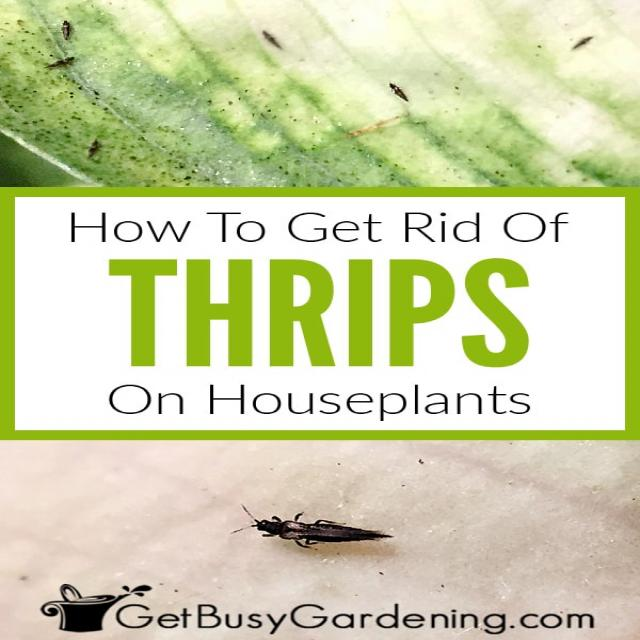Thrip-Adult-: (222, 497, 410, 558), (383, 78, 414, 106), (567, 30, 604, 53), (80, 132, 108, 162), (258, 26, 290, 52), (44, 52, 85, 71), (54, 17, 82, 44)
